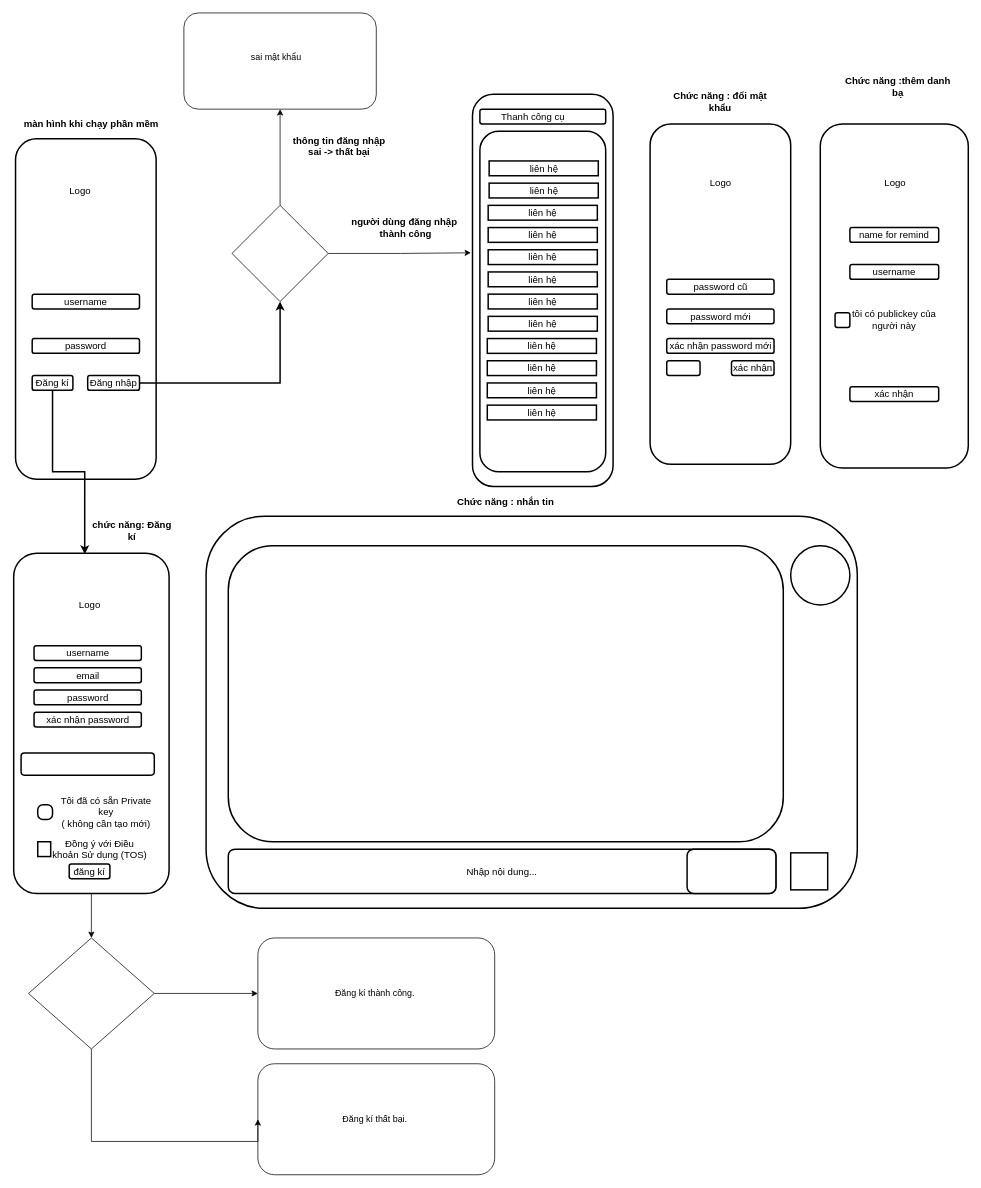
Some shapes in this 981 by 1188 pixel diagram are drawn without their labels. The centre of each missing label's shape, as x and y in pixels:
hủy: the point at 683,368
logo của đối phương chat: the point at 820,575
masterkey: the point at 87,764
nút gửi: the point at 809,871
textbox chat: the point at 505,693
thông tin đăng nhập đúng: the point at 279,253
đính kèm file: the point at 731,871
Đủ thông tin, key hợp lệ, username/email không trùng, chấp nhận các TOS: the point at 91,993
